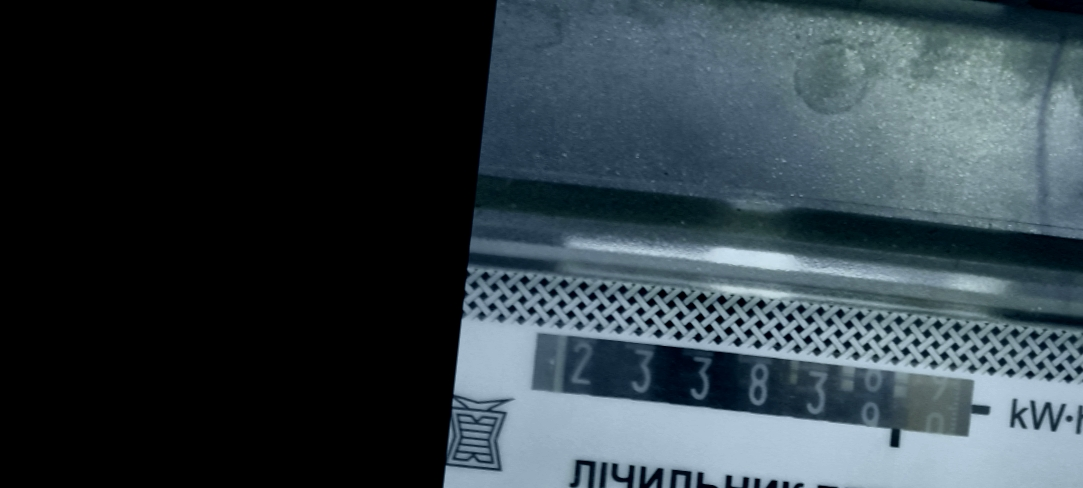0: (923, 409, 948, 437)
2: (568, 340, 597, 389)
3: (683, 352, 717, 404), (625, 345, 659, 396), (802, 368, 831, 416)
8: (742, 360, 774, 409), (861, 367, 886, 396)
9: (926, 373, 951, 405), (858, 398, 882, 430)
screen: (517, 321, 997, 462)
